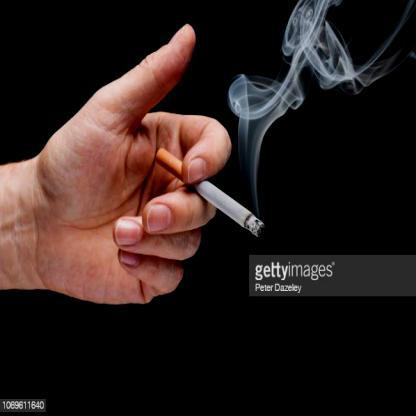cigarette: (155, 145, 264, 236)
smoke: (227, 70, 300, 212), (288, 0, 354, 94)
